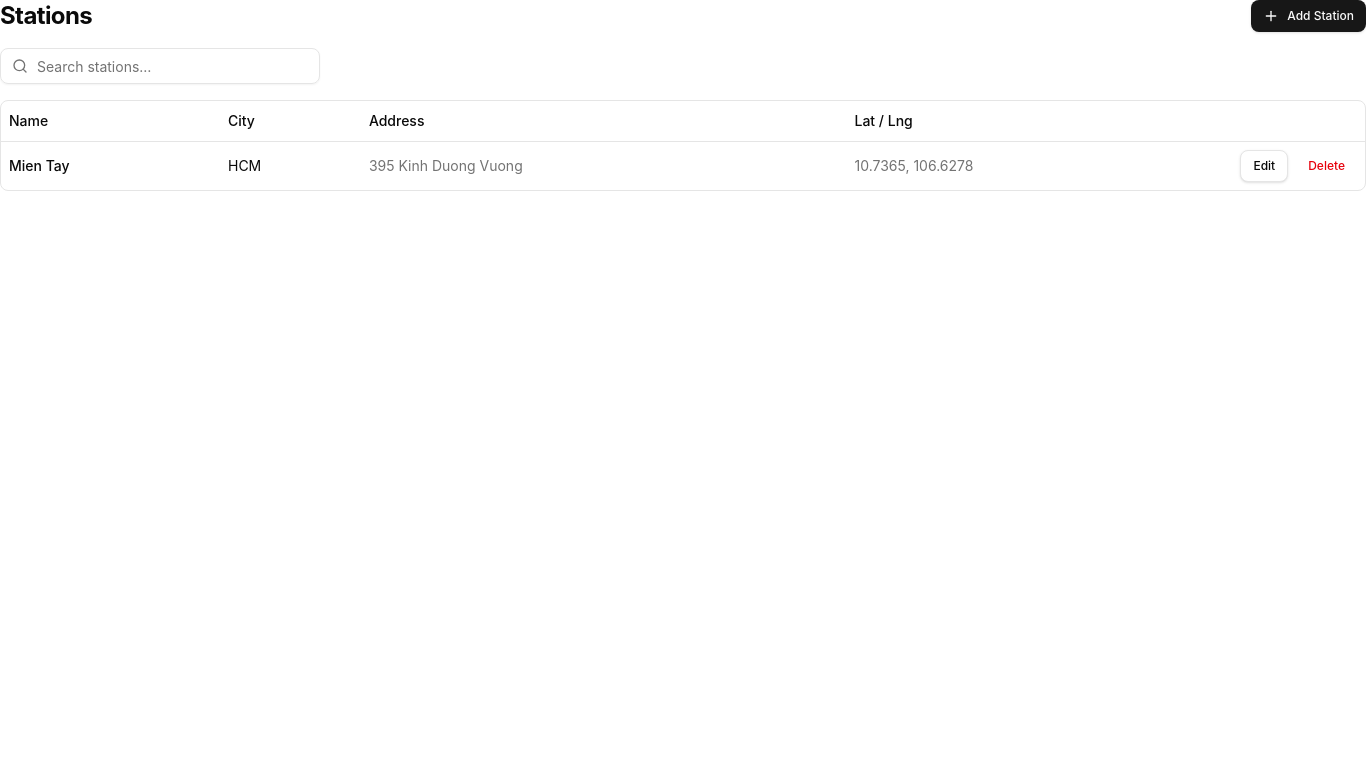
Test: StationsPage › opens edit dialog when Edit is clicked
The image size is (1366, 768).
Step 1. Click the button "Edit" → (1264, 166), box [1240,150,1288,182]
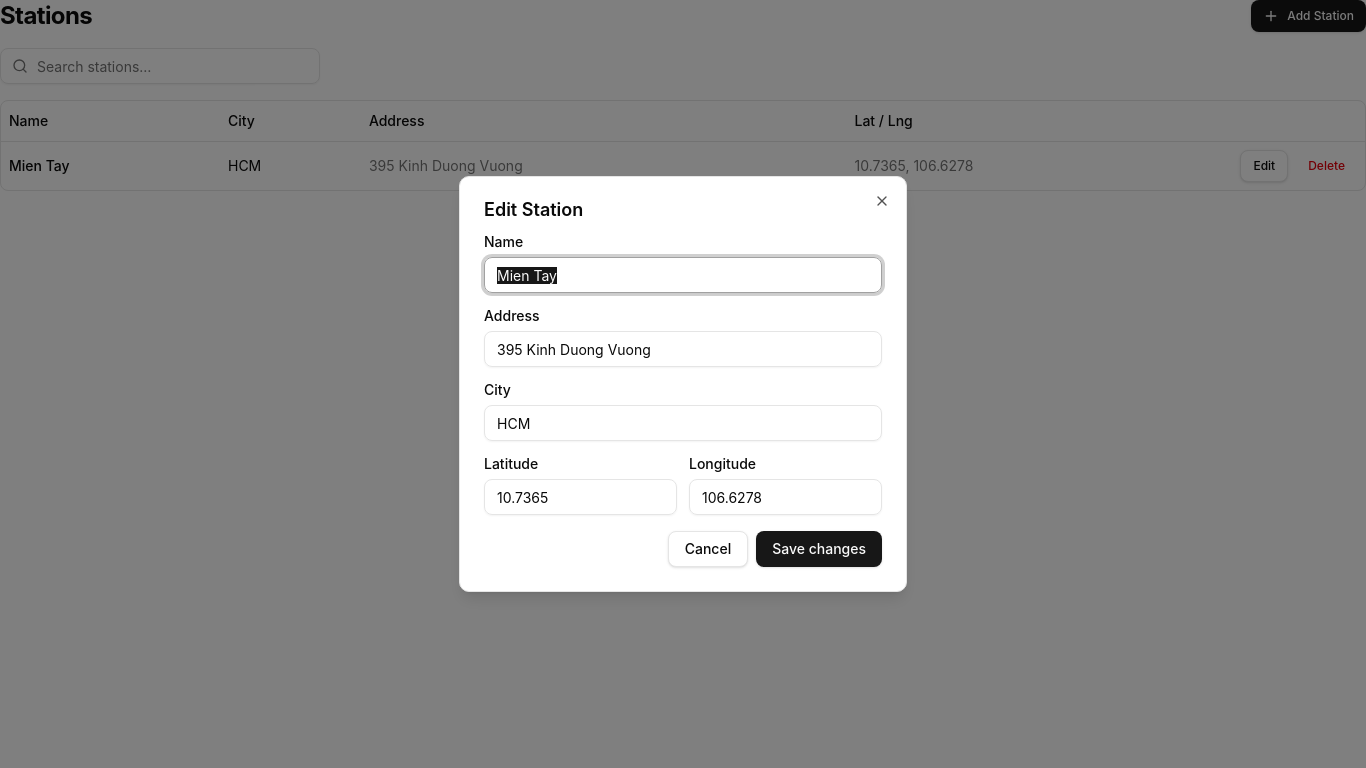
Now the heading "Edit Station" is shown, box [484,199,583,220]
